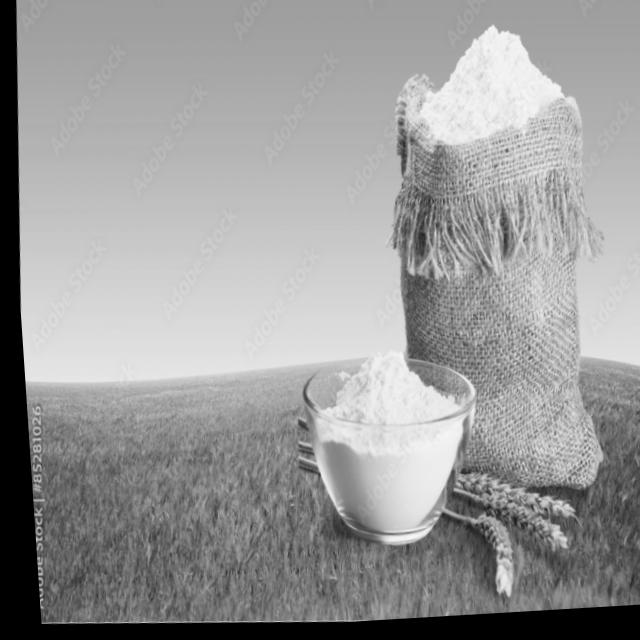sack: (366, 65, 620, 506)
